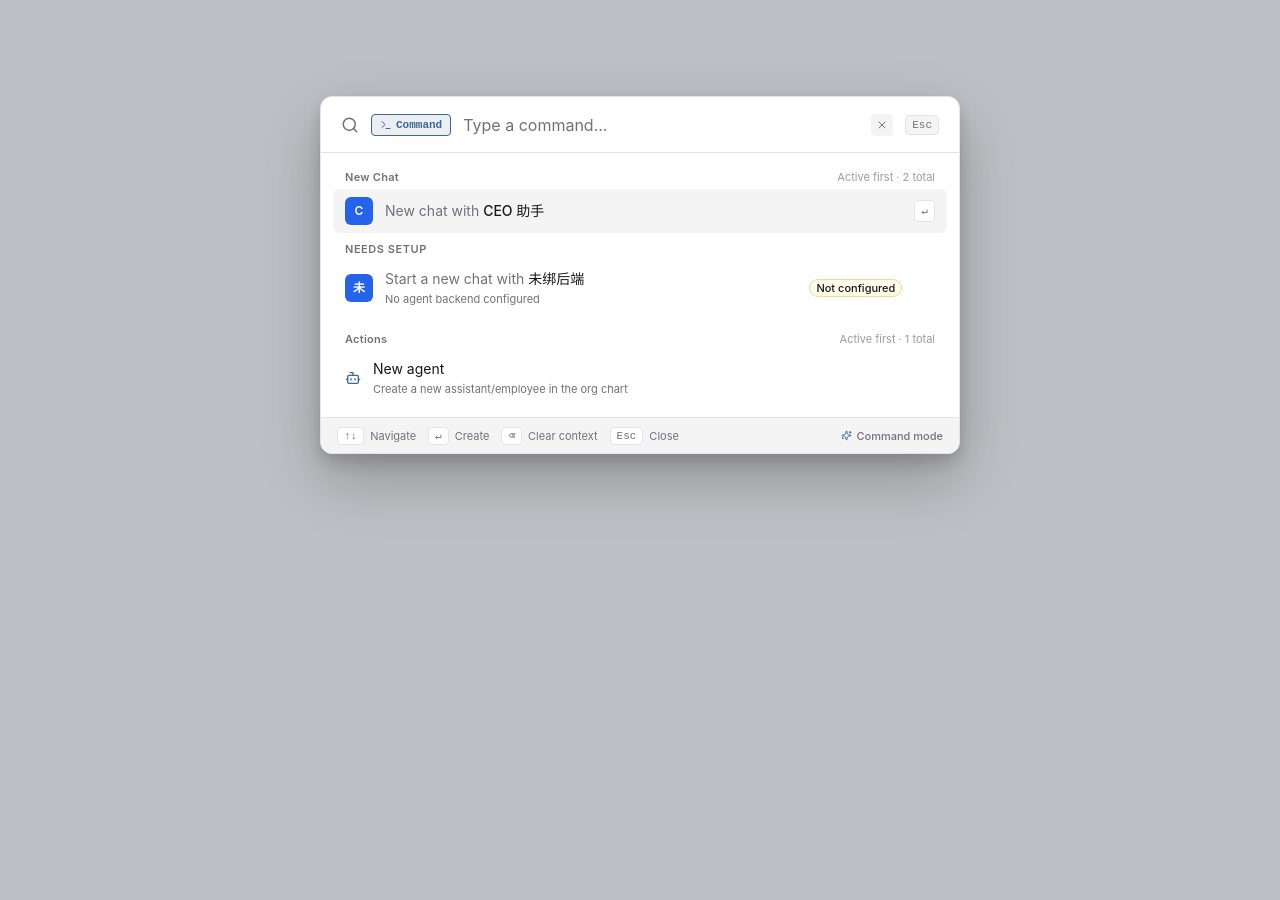
CommandPalette — 非可对话 agent：需要先配置 分组 + 选中开引导弹窗 › Given a non-chattable agent on /chat, When selecting it, Then the guidance dialog opens, the palette closes and no session is created
Expected: the text "Needs setup" is shown, [345,242,427,256]
# 选中 → 不建会话、面板关闭、引导弹窗打开
Click the text "未绑后端" at (556,278), box [528,270,584,287]
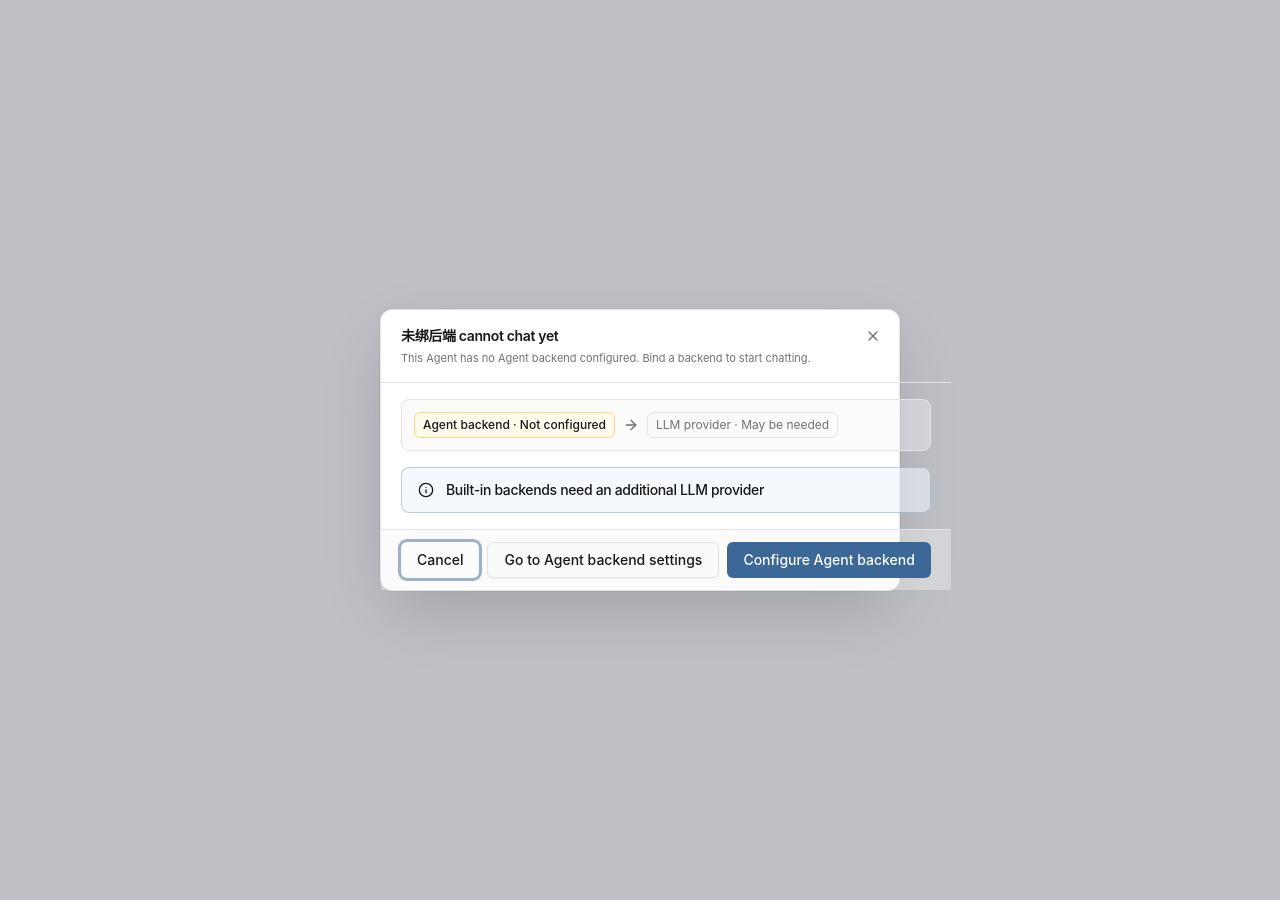
Expected: the dialog is shown, [380,309,900,591]
Expected: the heading "未绑后端 cannot chat yet" is shown, [401,327,558,344]
